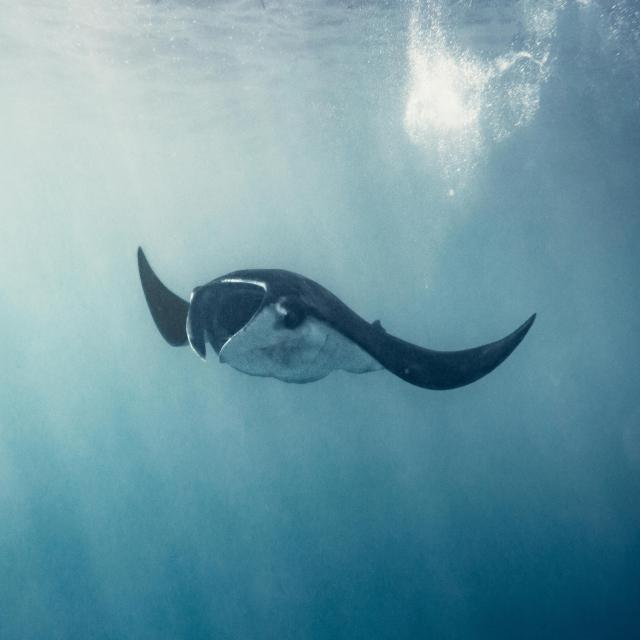stingray: (138, 249, 535, 389)
